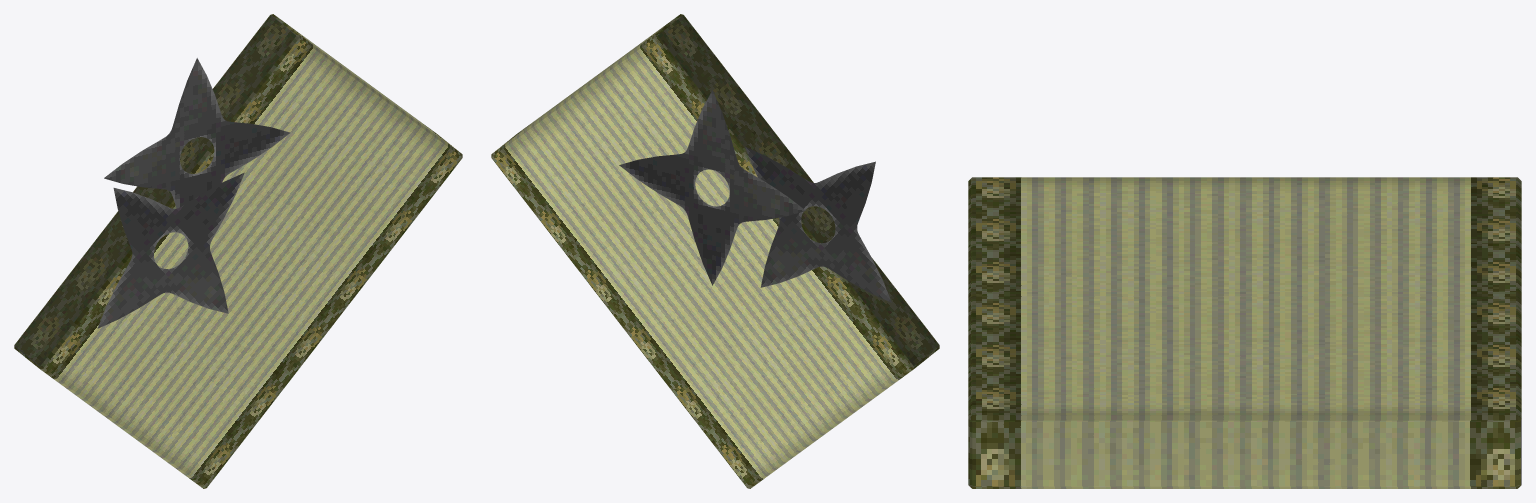
File: ps2_save-icons_hissatsupachislotevoninjahattori.glb
3 renders of one model, left to right at view 1: azimuth 30°, elevation 25°; view 2: azimuth 150°, elevation 25°; view 3: azimuth 270°, elevation 25°, orthographic. The views are drawn at different scales.
Parts seen in each view (by area): view 1: micon.ico; view 2: micon.ico; view 3: micon.ico.
Part boxes in pixels (x1,y1,x2,y2): micon.ico: (14,14,462,488); micon.ico: (491,14,939,488); micon.ico: (968,177,1521,488).
Bounding box in the file's own units: 3.92 × 4.12 × 3.75.
Materials: 1 (1 with a texture image).
